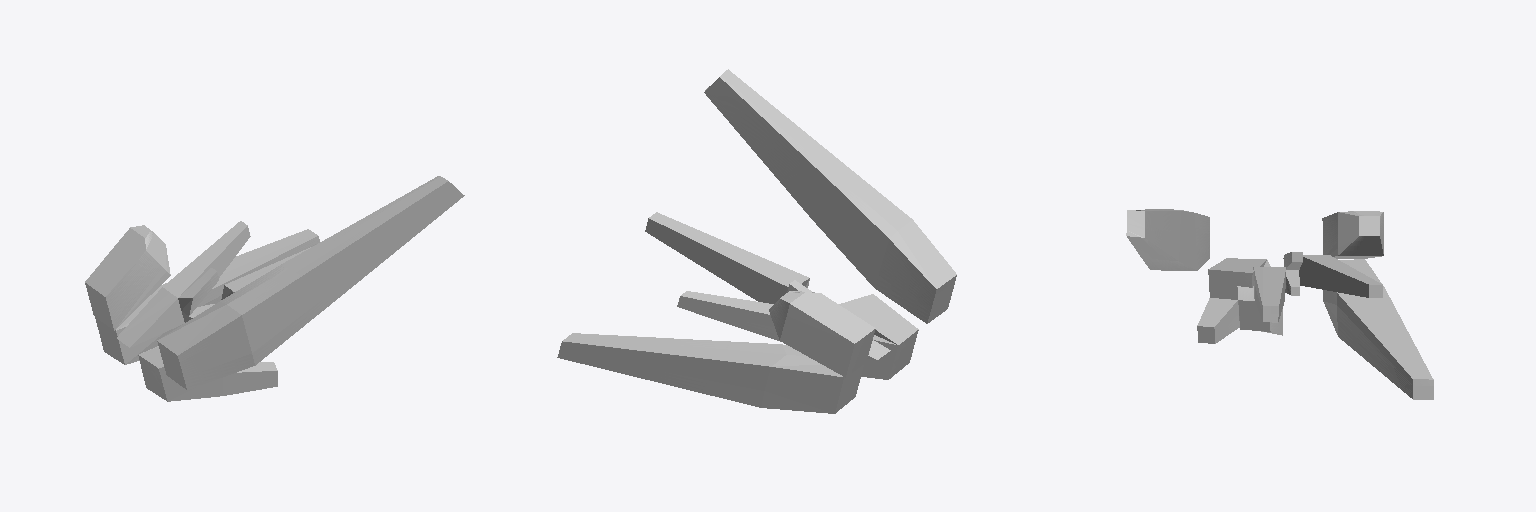
The model's file is diver.obj.
The picture shows the model from 3 angles: view 1: azimuth 30°, elevation 25°; view 2: azimuth 150°, elevation 25°; view 3: azimuth 270°, elevation 25°; orthographic projection.
Size of the model in its own units: 13.57 by 9.94 by 13.48.